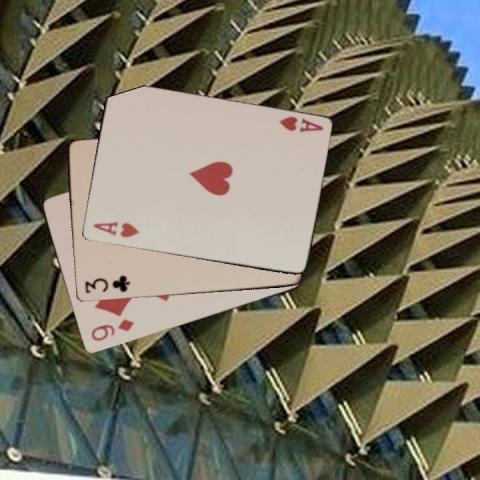3c: (81, 272, 131, 294)
9d: (88, 316, 135, 343)
Ah: (276, 113, 325, 134), (89, 219, 140, 239)
